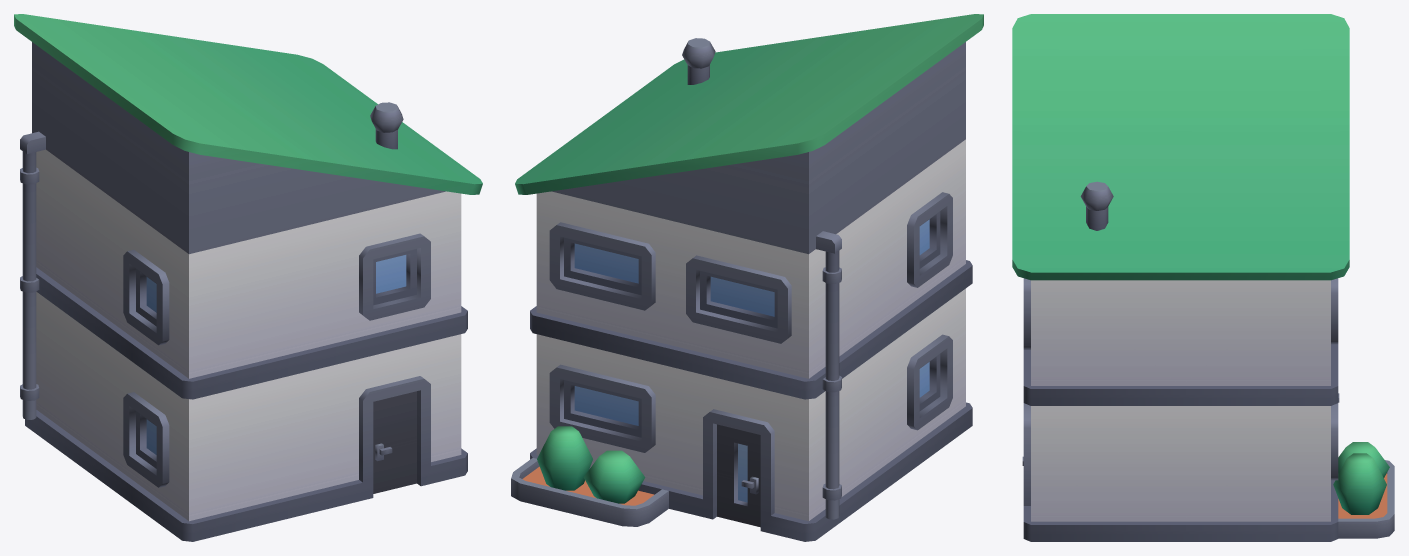
The model's file is house-k.glb.
3 renders of one model, left to right at view 1: azimuth 30°, elevation 25°; view 2: azimuth 150°, elevation 25°; view 3: azimuth 270°, elevation 25°, orthographic. The views are drawn at different scales.
Parts seen in each view (by area): view 1: building-type-k; view 2: building-type-k; view 3: building-type-k.
Boxes of the visible parts, box(x1,y1,x2,y2) form: building-type-k: box(14, 14, 482, 541); building-type-k: box(511, 14, 983, 541); building-type-k: box(1012, 14, 1394, 541).
Bounding box in the file's own units: 0.921 × 1.15 × 1.02.
1 material, 1 textured.
